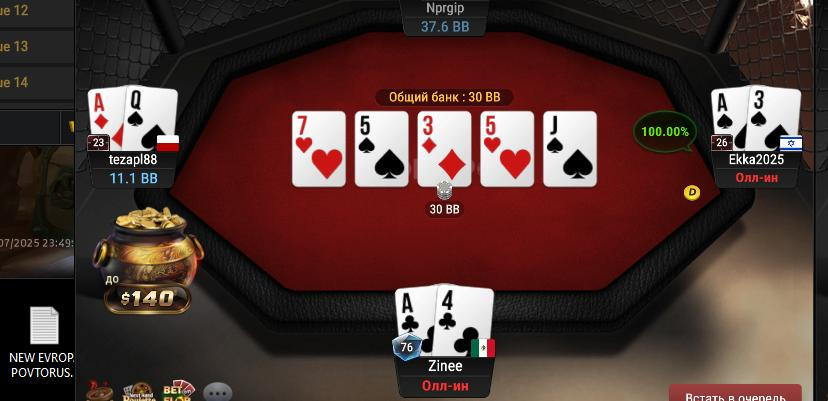3d: (419, 111, 472, 188)
3s: (749, 86, 798, 149)
4c: (436, 285, 491, 357)
5h: (479, 112, 534, 186)
5s: (356, 112, 408, 186)
7h: (292, 112, 346, 184)
Ad: (88, 88, 124, 151)
As: (395, 287, 435, 358), (710, 87, 748, 151)
Js: (544, 112, 597, 184)
Qs: (125, 84, 174, 149)
